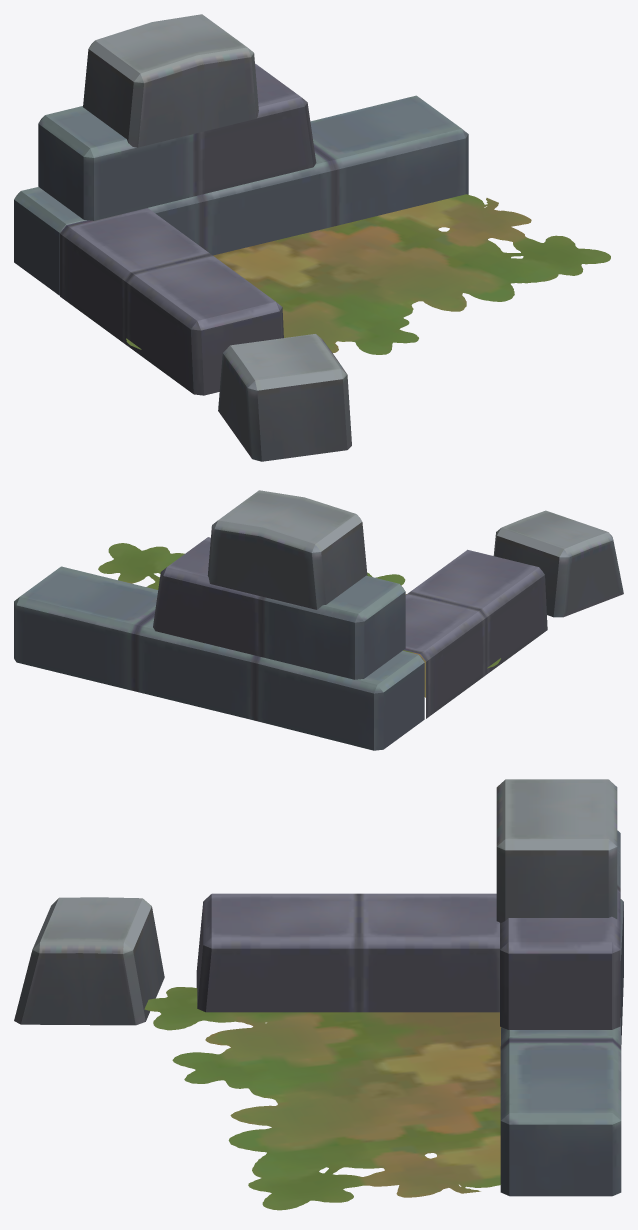
The model's file is ruins_5.fbx.
3 renders of one model, top to bottom at view 1: azimuth 30°, elevation 25°; view 2: azimuth 150°, elevation 25°; view 3: azimuth 270°, elevation 25°, orthographic. The views are drawn at different scales.
Parts seen in each view (by area): view 1: building, obstacle_ground_01; view 2: building, obstacle_ground_01; view 3: building, obstacle_ground_01.
Boxes of the visible parts, x1,y1,x2,y2 form: building: [14, 14, 468, 461]; obstacle_ground_01: [126, 194, 610, 354]; building: [14, 490, 623, 750]; obstacle_ground_01: [98, 543, 500, 697]; building: [14, 779, 623, 1196]; obstacle_ground_01: [144, 987, 501, 1210].
Size of the model in its own units: 2.18 by 0.9429 by 2.07.
